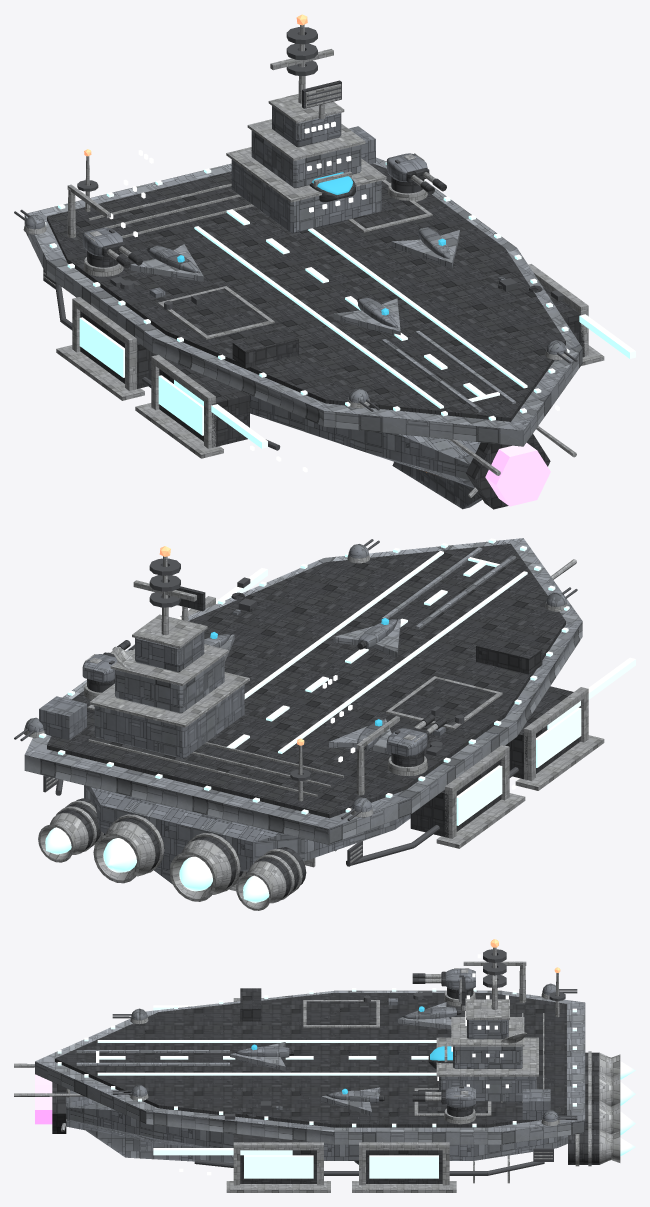
The model's file is titan_carrier_wreck.glb.
3 views of the same model, one above another, from view 1: azimuth 30°, elevation 25°; view 2: azimuth 150°, elevation 25°; view 3: azimuth 270°, elevation 25° (orthographic). The views are drawn at different scales.
Parts seen in each view (by area): view 1: titan_carrier_wreck_11, titan_carrier_wreck_08, titan_carrier_wreck_17, titan_carrier_wreck_07, titan_carrier_wreck_09, titan_carrier_wreck_03, titan_carrier_wreck_02, titan_carrier_wreck_13, titan_carrier_wreck_01, titan_carrier_wreck_14, titan_carrier_wreck_05, titan_carrier_wreck_00 (+5 smaller); view 2: titan_carrier_wreck_05, titan_carrier_wreck_11, titan_carrier_wreck_04, titan_carrier_wreck_01, titan_carrier_wreck_07, titan_carrier_wreck_14, titan_carrier_wreck_17, titan_carrier_wreck_02, titan_carrier_wreck_08, titan_carrier_wreck_03, titan_carrier_wreck_19, titan_carrier_wreck_13 (+4 smaller); view 3: titan_carrier_wreck_01, titan_carrier_wreck_00, titan_carrier_wreck_02, titan_carrier_wreck_15, titan_carrier_wreck_07, titan_carrier_wreck_09, titan_carrier_wreck_03, titan_carrier_wreck_13, titan_carrier_wreck_08, titan_carrier_wreck_19, titan_carrier_wreck_05, titan_carrier_wreck_04 (+6 smaller).
Boxes of the visible parts, box(x1,y1,x2,y2) form: titan_carrier_wreck_11: box(97, 310, 284, 458); titan_carrier_wreck_08: box(226, 339, 467, 472); titan_carrier_wreck_17: box(166, 129, 336, 265); titan_carrier_wreck_07: box(263, 283, 479, 360); titan_carrier_wreck_09: box(424, 383, 576, 509); titan_carrier_wreck_03: box(108, 238, 313, 317); titan_carrier_wreck_02: box(430, 292, 635, 410); titan_carrier_wreck_13: box(299, 183, 476, 288); titan_carrier_wreck_01: box(235, 113, 434, 223); titan_carrier_wreck_14: box(39, 230, 145, 381); titan_carrier_wreck_05: box(14, 149, 179, 289); titan_carrier_wreck_00: box(446, 230, 604, 365); titan_carrier_wreck_05: box(213, 738, 389, 910); titan_carrier_wreck_11: box(431, 643, 604, 818); titan_carrier_wreck_04: box(112, 734, 248, 901); titan_carrier_wreck_01: box(21, 627, 206, 757); titan_carrier_wreck_07: box(278, 600, 497, 683); titan_carrier_wreck_14: box(339, 730, 499, 864); titan_carrier_wreck_17: box(176, 642, 321, 770); titan_carrier_wreck_02: box(224, 539, 464, 612); titan_carrier_wreck_08: box(435, 566, 635, 689); titan_carrier_wreck_03: box(305, 681, 483, 761); titan_carrier_wreck_19: box(14, 733, 129, 882); titan_carrier_wreck_13: box(129, 632, 333, 701); titan_carrier_wreck_01: box(420, 1015, 567, 1156); titan_carrier_wreck_00: box(211, 1091, 372, 1192); titan_carrier_wreck_02: box(89, 1056, 254, 1175); titan_carrier_wreck_15: box(366, 1095, 517, 1192); titan_carrier_wreck_07: box(180, 1003, 351, 1094); titan_carrier_wreck_09: box(14, 1042, 151, 1158); titan_carrier_wreck_03: box(315, 973, 465, 1057); titan_carrier_wreck_13: box(291, 1051, 438, 1123); titan_carrier_wreck_08: box(79, 995, 247, 1058); titan_carrier_wreck_19: box(512, 1083, 635, 1169); titan_carrier_wreck_05: box(505, 961, 635, 1079); titan_carrier_wreck_04: box(536, 1044, 635, 1117).
Bounding box in the file's own units: 5.3 × 4.01 × 8.93.
11 materials, 5 textured.
